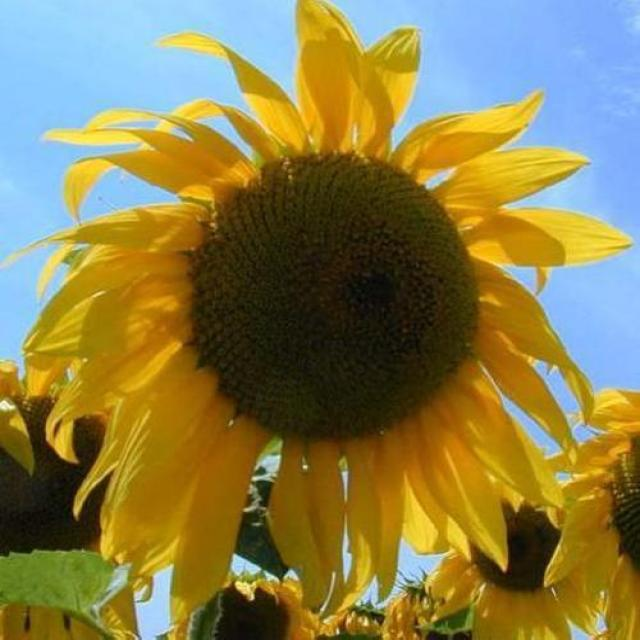sunflower: (31, 7, 609, 616)
